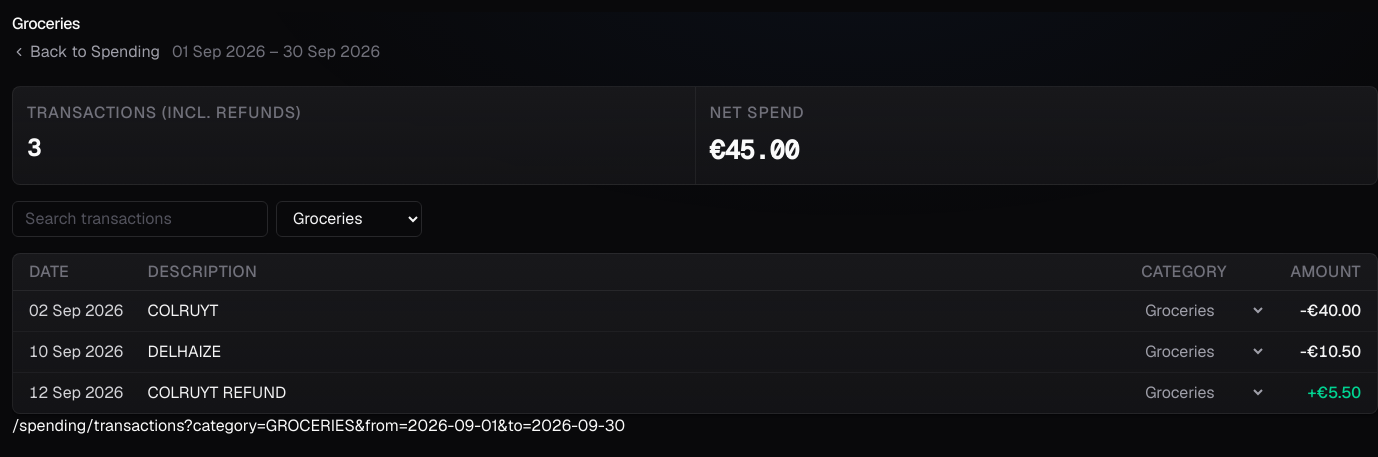
SpendingTransactions › narrows by search and clears back to the whole category
In the field labelled "Search transactions": (140,219) left=12, top=201, right=268, bottom=237, type "delhaize"
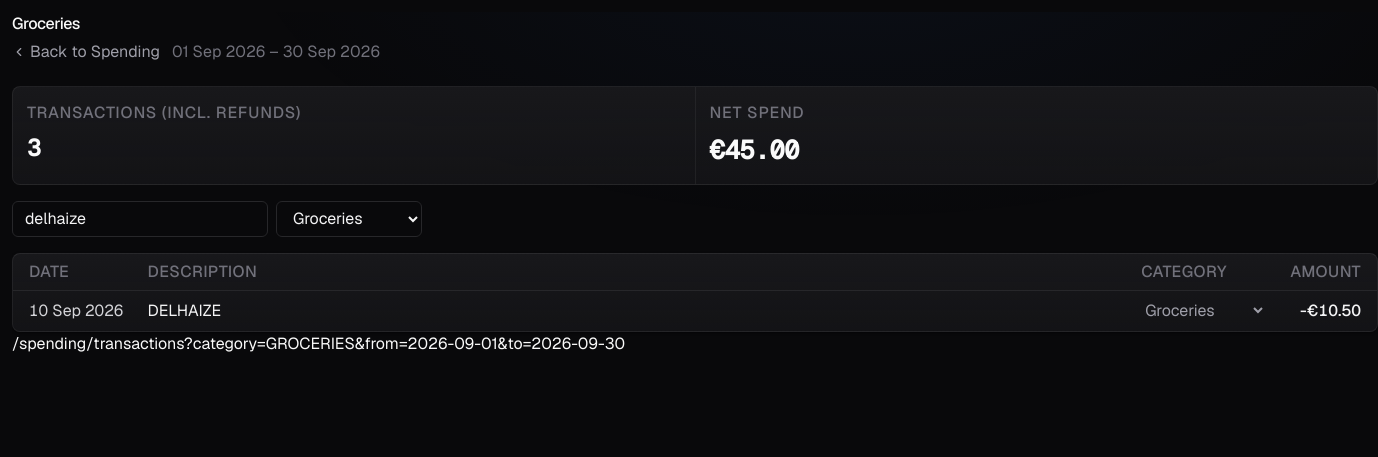
Expected: the text "DELHAIZE" is shown, left=147, top=300, right=221, bottom=321
Expected: the text "COLRUYT" is gone
Replace the text in the field named "Search transactions" with "zzz": (140,219) left=12, top=201, right=268, bottom=237
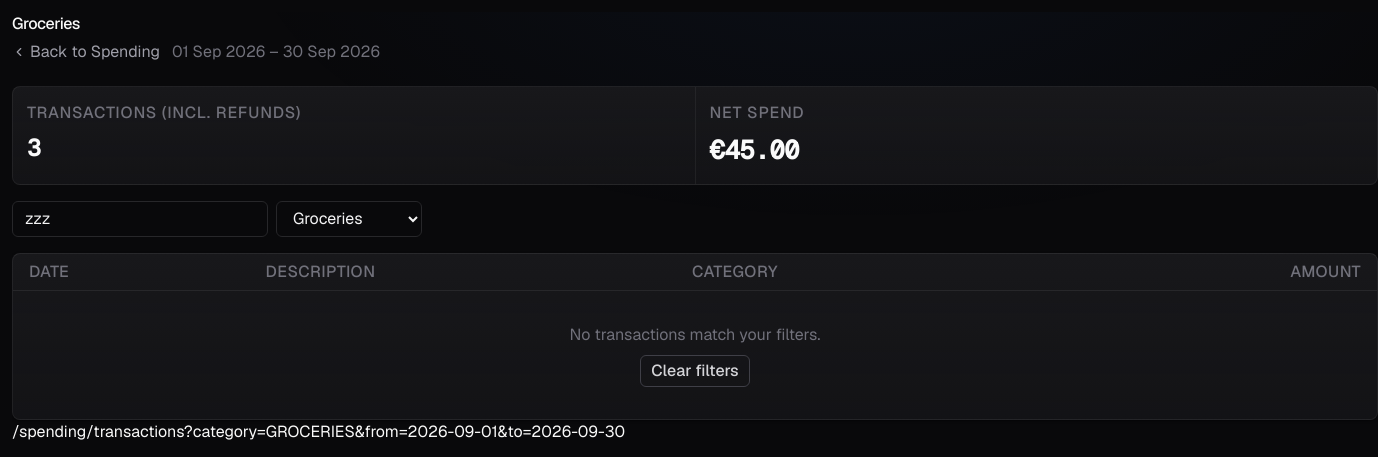
Click the button "Clear filters": (695,371) left=640, top=355, right=750, bottom=387
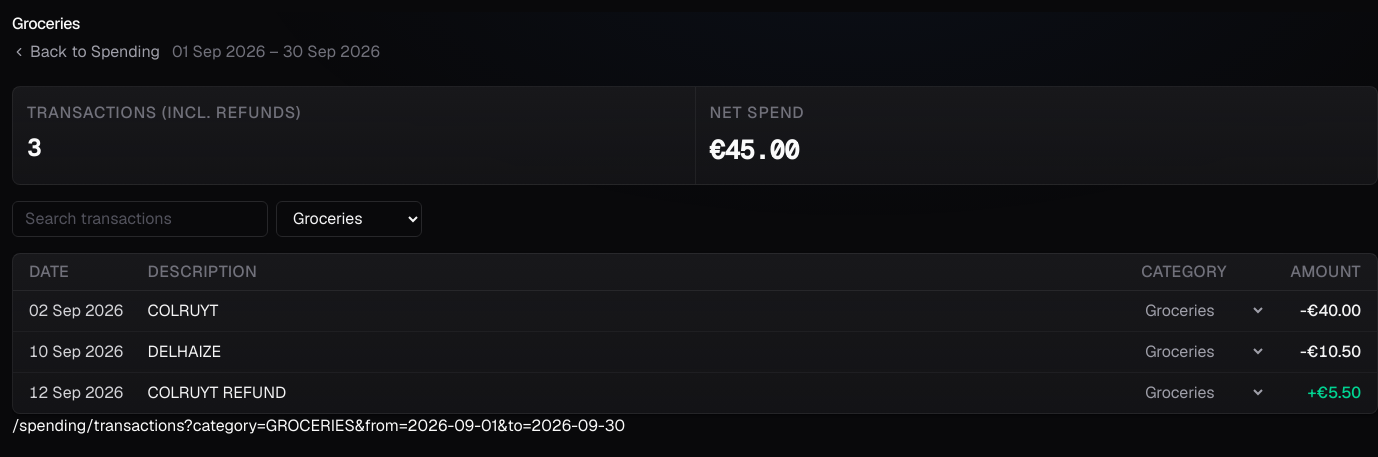
Expected: the heading "Groceries" is shown, left=12, top=13, right=80, bottom=34
Expected: the text "COLRUYT" is shown, left=147, top=300, right=218, bottom=321
Expected: the button "Clear filters" is gone
